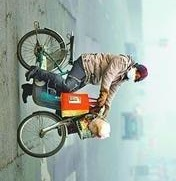person: (20, 52, 149, 106)
